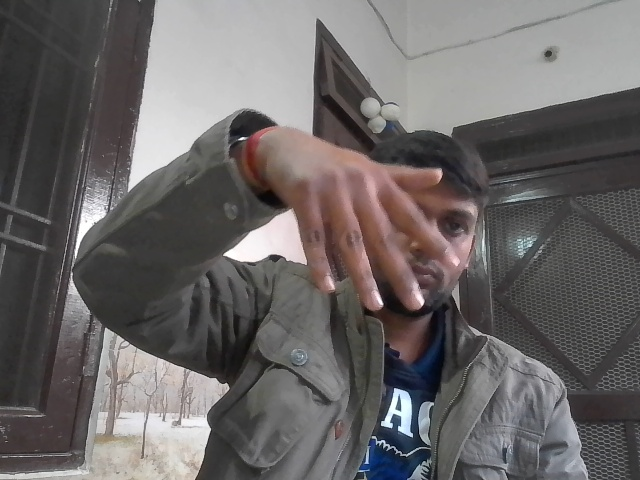HowAreYou: (275, 124, 468, 338)
